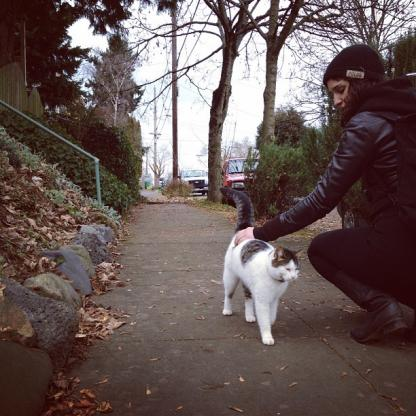Target: (217, 183, 302, 351)
